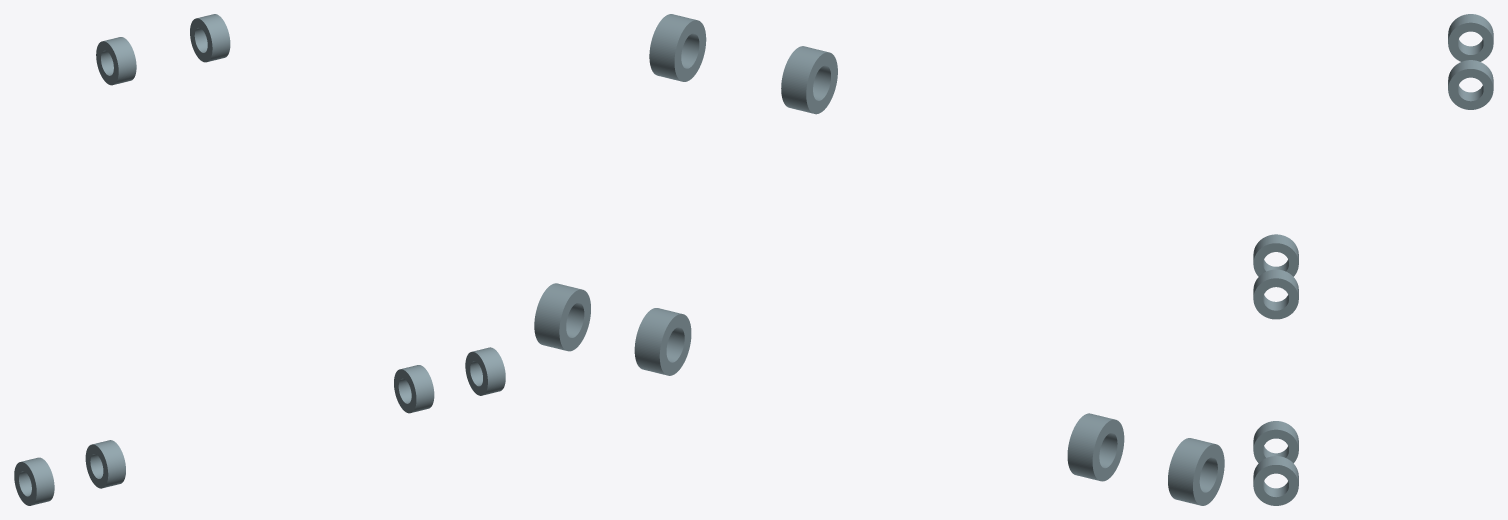
Rendered from lower_bearing_envelopes_C02_R02.glb.
3 renders of one model, left to right at view 1: azimuth 30°, elevation 25°; view 2: azimuth 150°, elevation 25°; view 3: azimuth 270°, elevation 25°, orthographic. The views are drawn at different scales.
Visible parts, largest first — view 1: GE20ES_fit_envelope_-170_-1, GE20ES_fit_envelope_170_1, GE20ES_fit_envelope_170_-1, GE20ES_fit_envelope_0_1, GE20ES_fit_envelope_-170_1, GE20ES_fit_envelope_0_-1; view 2: GE20ES_fit_envelope_-170_1, GE20ES_fit_envelope_170_-1, GE20ES_fit_envelope_170_1, GE20ES_fit_envelope_0_1, GE20ES_fit_envelope_0_-1, GE20ES_fit_envelope_-170_-1; view 3: GE20ES_fit_envelope_-170_1, GE20ES_fit_envelope_0_1, GE20ES_fit_envelope_170_1, GE20ES_fit_envelope_0_-1, GE20ES_fit_envelope_-170_-1, GE20ES_fit_envelope_170_-1.
Boxes of the visible parts, x1,y1,x2,y2 form: GE20ES_fit_envelope_-170_-1: [14, 457, 54, 505]; GE20ES_fit_envelope_170_1: [465, 347, 505, 395]; GE20ES_fit_envelope_170_-1: [394, 365, 434, 413]; GE20ES_fit_envelope_0_1: [190, 14, 230, 62]; GE20ES_fit_envelope_-170_1: [85, 440, 125, 488]; GE20ES_fit_envelope_0_-1: [96, 37, 136, 85]; GE20ES_fit_envelope_-170_1: [1067, 413, 1124, 481]; GE20ES_fit_envelope_170_-1: [634, 308, 691, 375]; GE20ES_fit_envelope_170_1: [534, 283, 590, 351]; GE20ES_fit_envelope_0_1: [649, 14, 706, 81]; GE20ES_fit_envelope_0_-1: [781, 46, 837, 114]; GE20ES_fit_envelope_-170_-1: [1168, 438, 1224, 505]; GE20ES_fit_envelope_-170_1: [1253, 269, 1298, 319]; GE20ES_fit_envelope_0_1: [1448, 60, 1493, 109]; GE20ES_fit_envelope_170_1: [1253, 456, 1298, 505]; GE20ES_fit_envelope_0_-1: [1448, 14, 1493, 61]; GE20ES_fit_envelope_-170_-1: [1253, 234, 1298, 276]; GE20ES_fit_envelope_170_-1: [1253, 421, 1298, 463].
Size of the model in its own units: 0.42 by 0.297 by 0.185.
